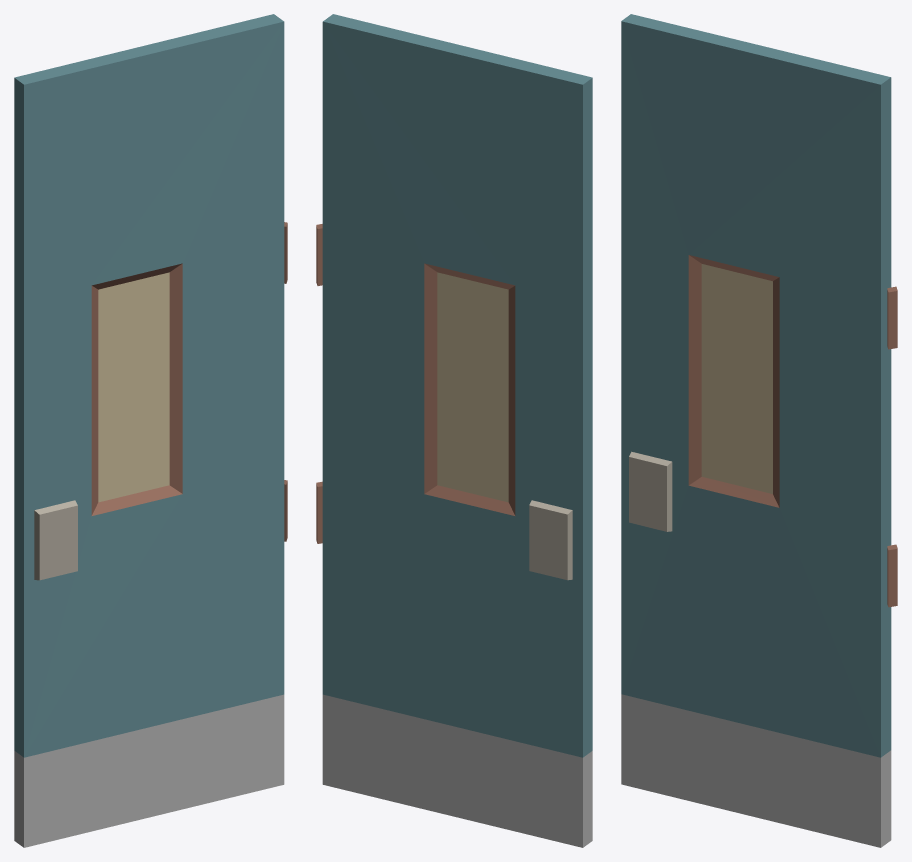
Rendered from SM_Door_B2_Left.fbx.
3 renders of one model, left to right at view 1: azimuth 30°, elevation 25°; view 2: azimuth 150°, elevation 25°; view 3: azimuth 330°, elevation 25°, orthographic.
Visible parts, largest first — view 1: SM_Door_B2_Left; view 2: SM_Door_B2_Left; view 3: SM_Door_B2_Left.
Boxes of the visible parts, box(x1,y1,x2,y2) form: SM_Door_B2_Left: box(14, 14, 287, 847); SM_Door_B2_Left: box(316, 14, 592, 847); SM_Door_B2_Left: box(621, 14, 897, 847).
Bounding box in the file's own units: 88.26 × 238 × 10.04.
